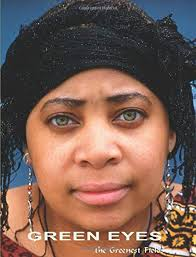e.other: (51, 113, 69, 131)
